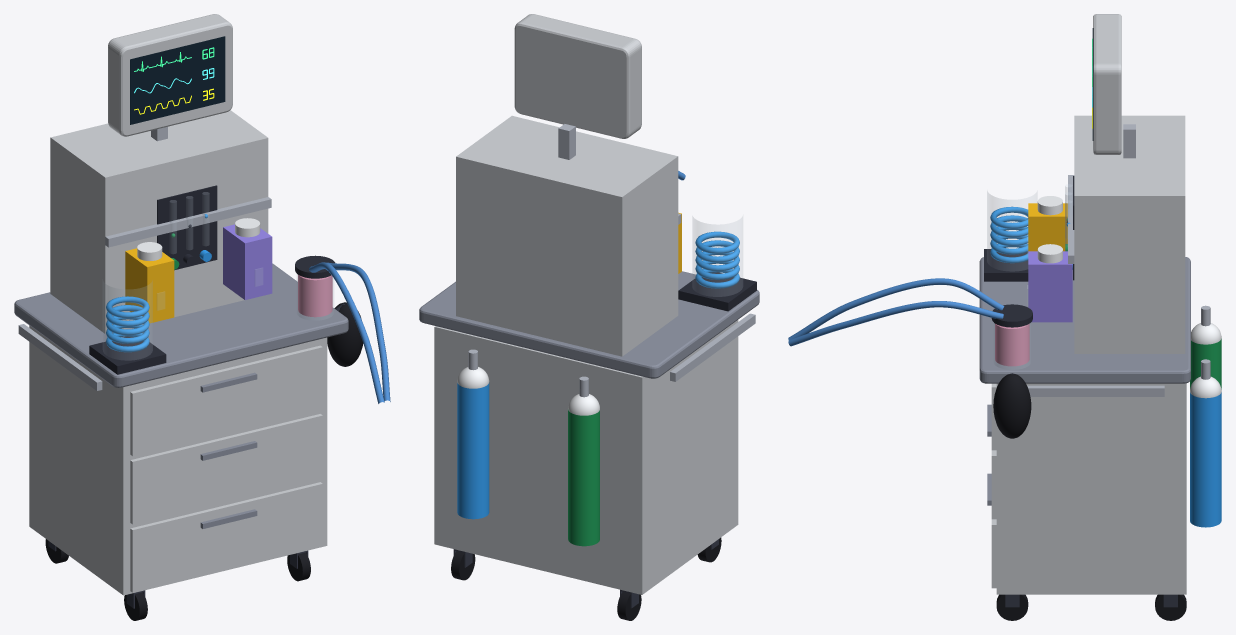
File: hos-034.glb
The picture shows the model from 3 angles, left to right: view 1: azimuth 30°, elevation 25°; view 2: azimuth 150°, elevation 25°; view 3: azimuth 270°, elevation 25°; orthographic projection.
Parts seen in each view (by area): view 1: tower, base_cabinet, worktop, drawer_1, drawer_2, drawer_3, monitor_housing, screen, body (×2), canister (×2), panel, vaporizer_rail (+8 smaller); view 2: base_cabinet, tower, monitor_housing, worktop, body (×2), canister, base, side_rail_left, shoulder (×2), wheel (×2), fold_5, monitor_post (+1 smaller); view 3: base_cabinet, tower, worktop, body (×4), canister (×2), monitor_housing, reservoir_bag, inspiratory_limb, side_rail_right, expiratory_limb, granules, base (+2 smaller).
Part boxes in pixels (x1,y1,x2,y2): tower: (50, 110, 268, 333); base_cabinet: (29, 325, 327, 595); worktop: (14, 263, 348, 387); drawer_1: (130, 482, 322, 592); drawer_2: (130, 414, 322, 524); drawer_3: (130, 345, 322, 456); monitor_housing: (108, 14, 232, 136); screen: (130, 36, 225, 124); body (×2): (125, 224, 272, 323); canister (×2): (103, 274, 333, 359); panel: (157, 185, 217, 270); vaporizer_rail: (105, 197, 271, 247); base_cabinet: (434, 320, 738, 594); tower: (456, 115, 678, 356); monitor_housing: (514, 14, 641, 138); worktop: (419, 271, 759, 378); body (×2): (457, 382, 599, 546); canister: (693, 217, 742, 296); base: (678, 272, 756, 311); side_rail_left: (670, 313, 755, 381); shoulder (×2): (457, 367, 599, 415); wheel (×2): (451, 551, 641, 620); fold_5: (695, 231, 739, 253); monitor_post: (558, 124, 575, 159); base_cabinet: (996, 383, 1186, 594); tower: (1074, 115, 1185, 353); worktop: (979, 257, 1190, 383); body (×4): (1028, 203, 1221, 527); canister (×2): (987, 191, 1036, 369); monitor_housing: (1093, 14, 1121, 154); reservoir_bag: (993, 373, 1031, 438); inspiratory_limb: (788, 278, 1004, 339); side_rail_right: (1027, 385, 1164, 396); expiratory_limb: (788, 301, 1003, 346); granules: (995, 323, 1029, 366); base: (984, 249, 1028, 281).
Bounding box in the file's own units: 0.985 × 1.88 × 1.37.
